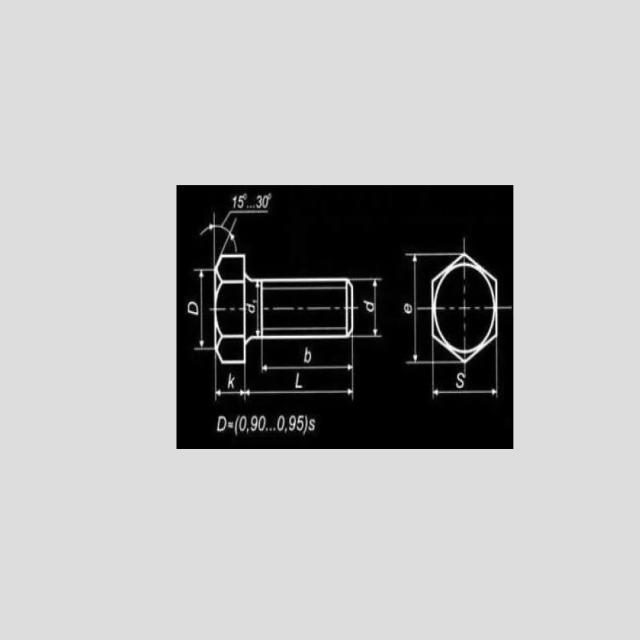marking_line: (413, 256, 419, 363), (246, 389, 352, 395), (263, 365, 353, 371), (199, 272, 205, 349), (254, 282, 261, 337), (431, 390, 497, 395), (373, 281, 378, 337), (217, 390, 244, 398)
numeric: (289, 414, 304, 435), (251, 415, 266, 433), (256, 194, 271, 210), (232, 192, 244, 209), (238, 414, 247, 431), (277, 413, 284, 433)
